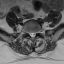CCS_normal: (31, 30, 33, 40)
LFS_stenosis: (36, 28, 38, 35)
LLS_normal: (33, 30, 36, 39)
RFS_stenosis: (27, 29, 29, 35)
RLS_normal: (29, 29, 31, 38)
